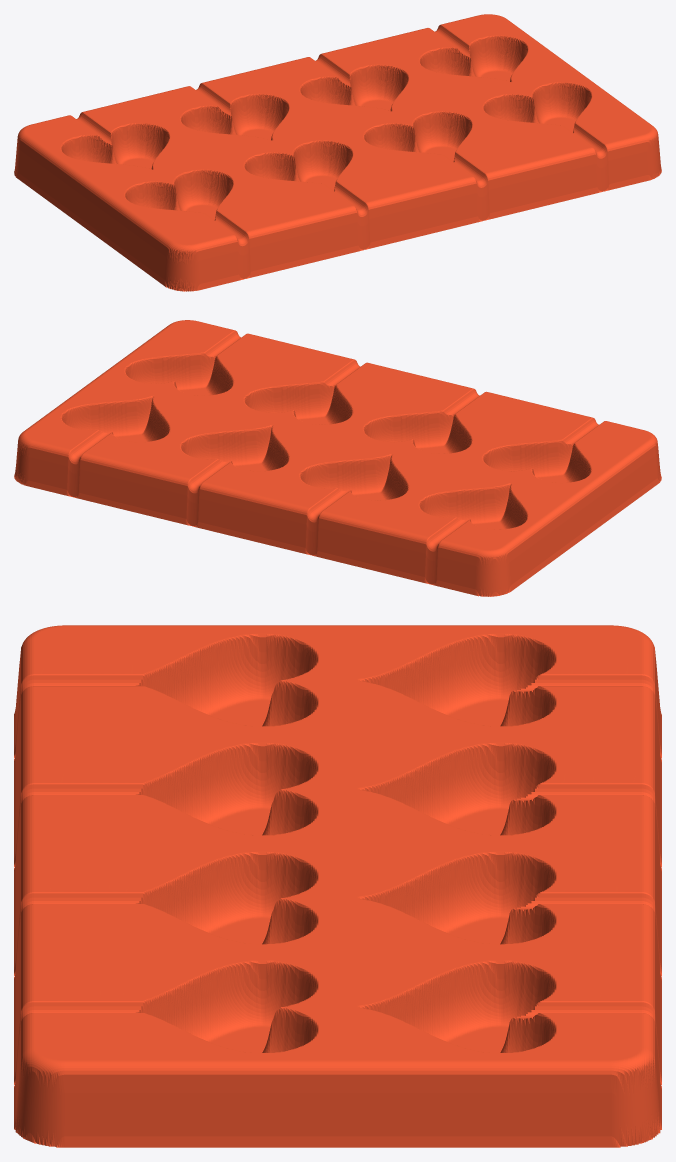
Rendered from mold.glb.
3 renders of one model, top to bottom at view 1: azimuth 30°, elevation 25°; view 2: azimuth 150°, elevation 25°; view 3: azimuth 270°, elevation 25°, orthographic. The views are drawn at different scales.
Visible parts, largest first — view 1: geometry_0; view 2: geometry_0; view 3: geometry_0.
Part boxes in pixels (x1,y1,x2,y2): geometry_0: (14, 14, 661, 291); geometry_0: (14, 320, 661, 596); geometry_0: (14, 625, 661, 1147).
Bounding box in the file's own units: 0.1907 × 0.0155 × 0.1158.
